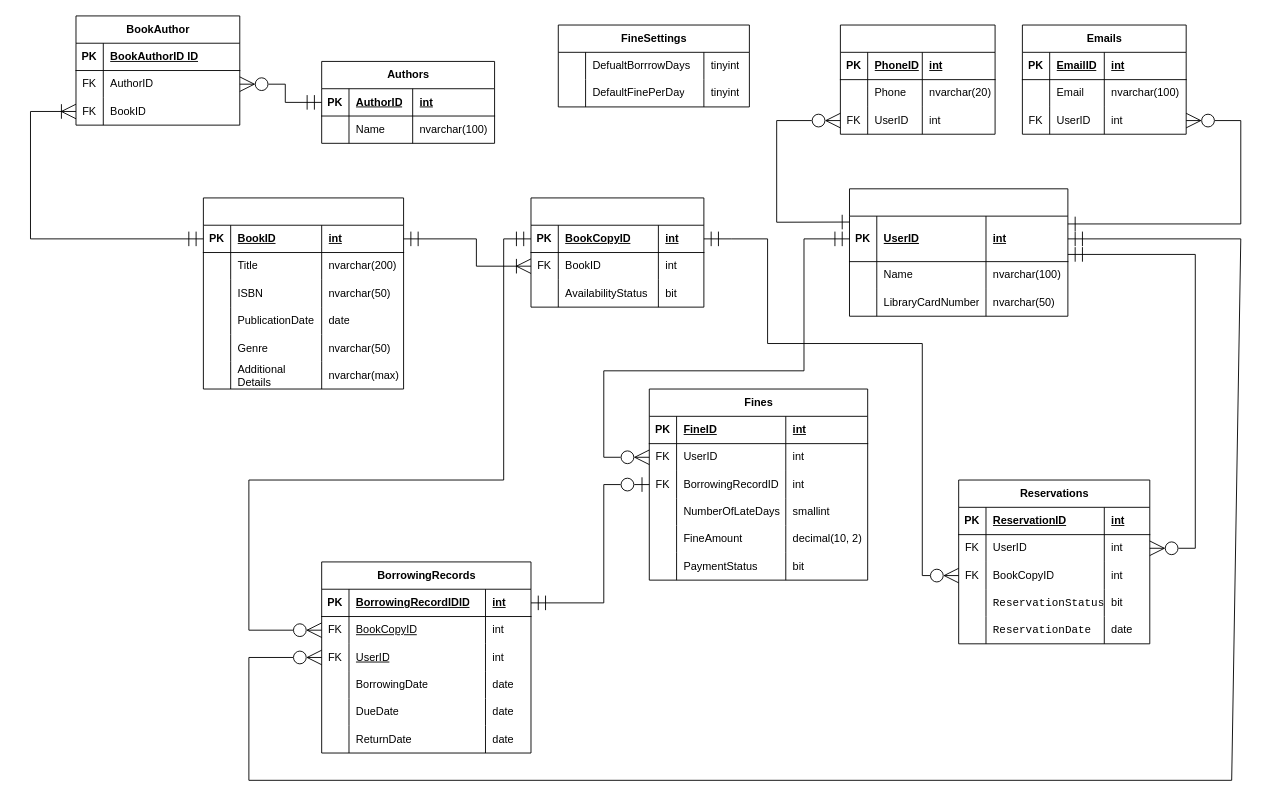
Some shapes in this 1272 by 812 pixel diagram are drawn without their labels. Each missing label, with the box of its shape:
BookCopies: (530, 197, 704, 307)
Books: (202, 197, 404, 389)
Phones: (839, 24, 995, 134)
Users: (849, 188, 1068, 316)
